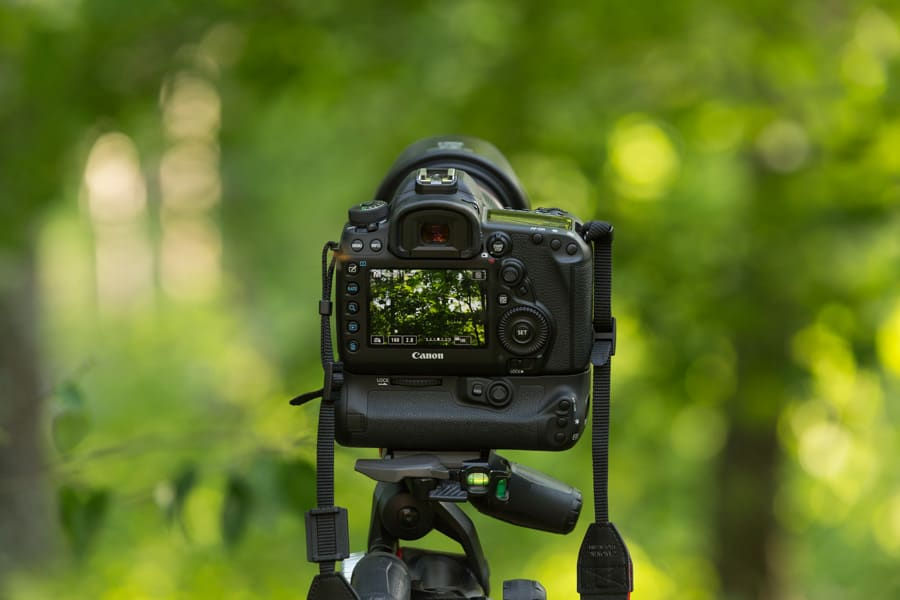camera: (319, 140, 617, 447)
